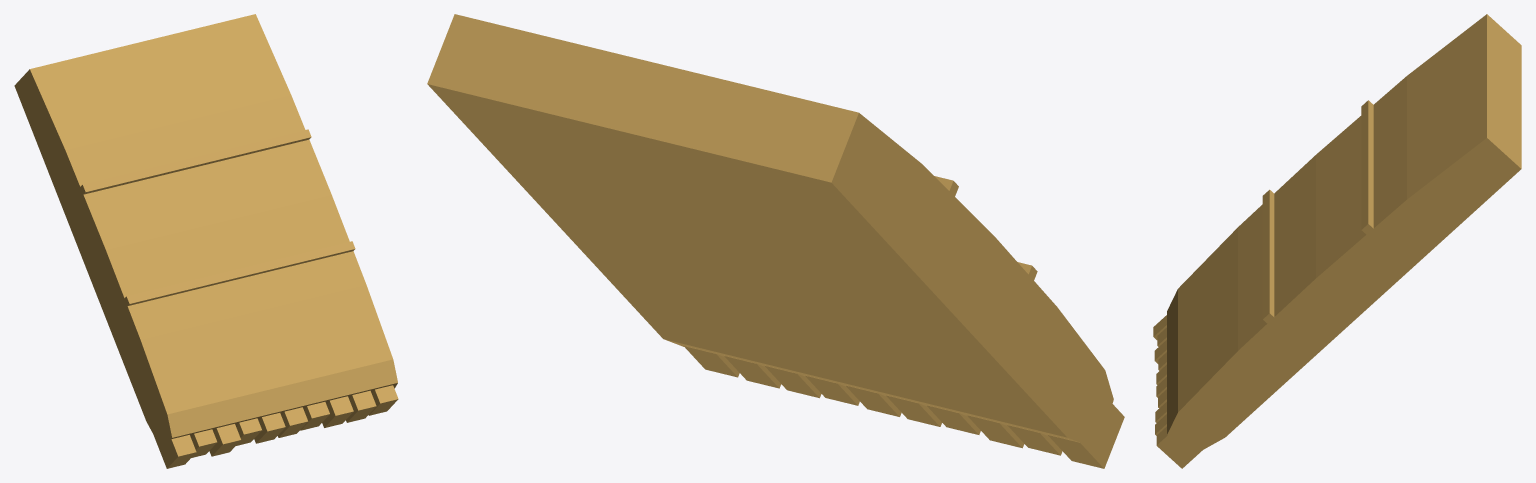
File: roof_thatch_lod0.glb
3 renders of one model, left to right at view 1: azimuth 30°, elevation 25°; view 2: azimuth 150°, elevation 25°; view 3: azimuth 270°, elevation 25°, orthographic. The views are drawn at different scales.
Parts seen in each view (by area): view 1: roof_thatch; view 2: roof_thatch; view 3: roof_thatch.
Boxes of the visible parts, bbox=[...] form: roof_thatch: bbox=[14, 14, 398, 468]; roof_thatch: bbox=[427, 14, 1124, 468]; roof_thatch: bbox=[1153, 14, 1521, 468].
Size of the model in its own units: 2.1 by 2.66 by 2.64.
